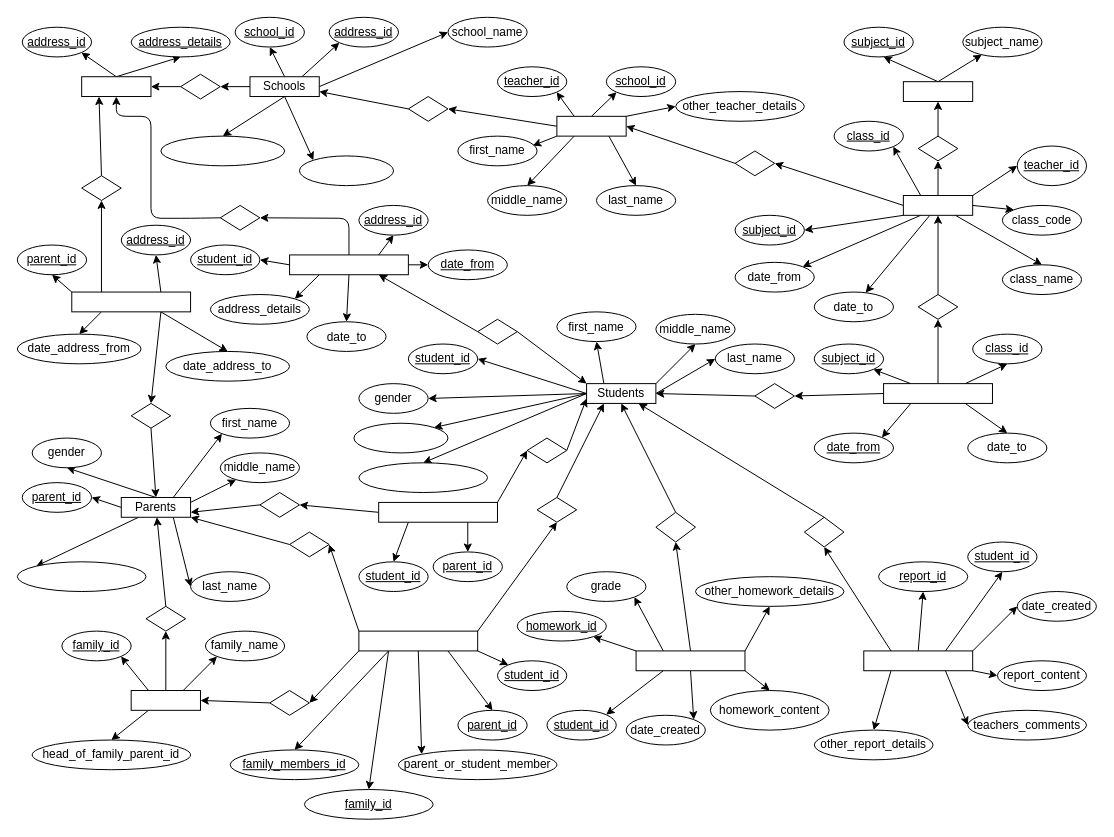
This 1114x837 diagram has some shape labels left out. The box of each missing label's shape, as (x1, y1, x2, y2) in pixels:
Addresses: (81, 76, 151, 97)
Classes: (902, 195, 973, 215)
date_of_birth: (353, 422, 448, 453)
Families: (130, 690, 200, 710)
Family_Members: (358, 630, 478, 651)
Homeworks: (635, 650, 745, 671)
other_parent_details: (16, 561, 146, 592)
other_school_details: (160, 135, 285, 166)
other_student_details: (358, 462, 488, 493)
Parent_Addresses: (71, 291, 191, 312)
Reports: (863, 650, 973, 671)
school_principal: (298, 155, 394, 186)
Student_Addresses: (289, 254, 408, 275)
Student_Classes: (883, 383, 992, 403)
Student_Parents: (378, 501, 497, 522)
Subjects: (902, 81, 973, 101)
Teachers: (556, 115, 626, 136)
